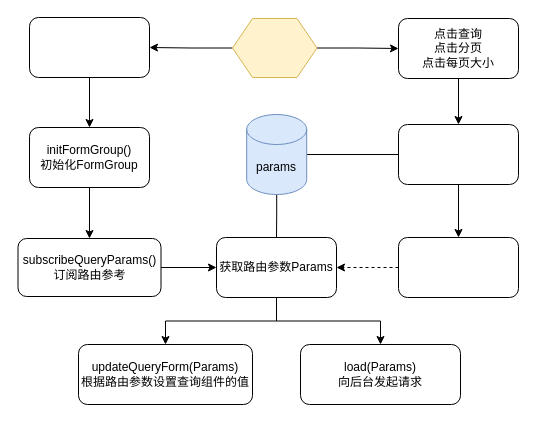
Image size: 536x422. Some labels were removed from this diagram. Each missing label, with the box of its shape:
ngOnInit() 组件初始化: (28, 16, 150, 78)
reload(Params) 调用navigate发送路由: (398, 236, 518, 298)
开始: (232, 18, 317, 78)
更新查询参数: (398, 124, 518, 184)
